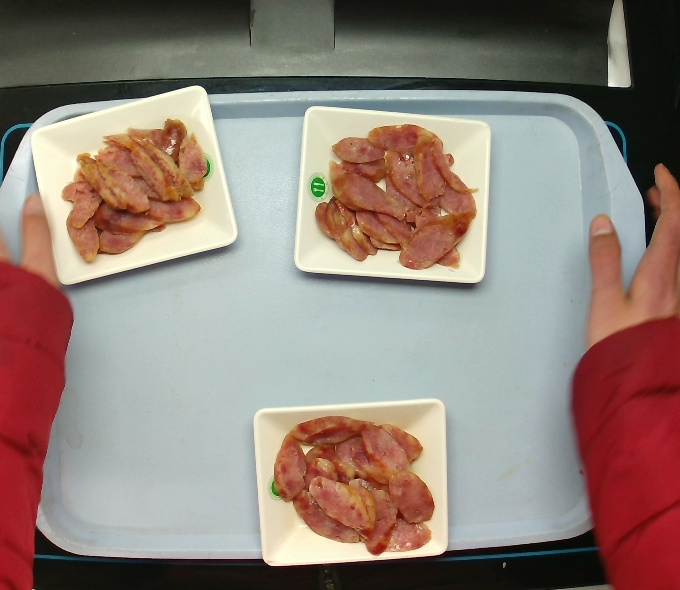wcq-QiePianXiangChang: (303, 111, 486, 276), (262, 406, 448, 565), (46, 111, 216, 274)
